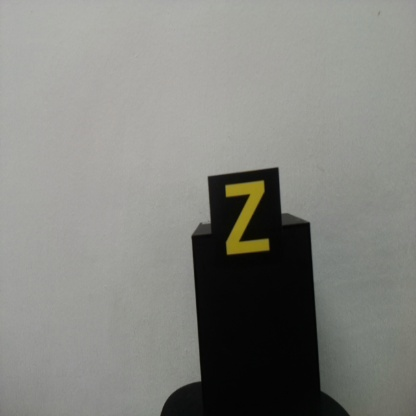id_15: (208, 176, 283, 273)
